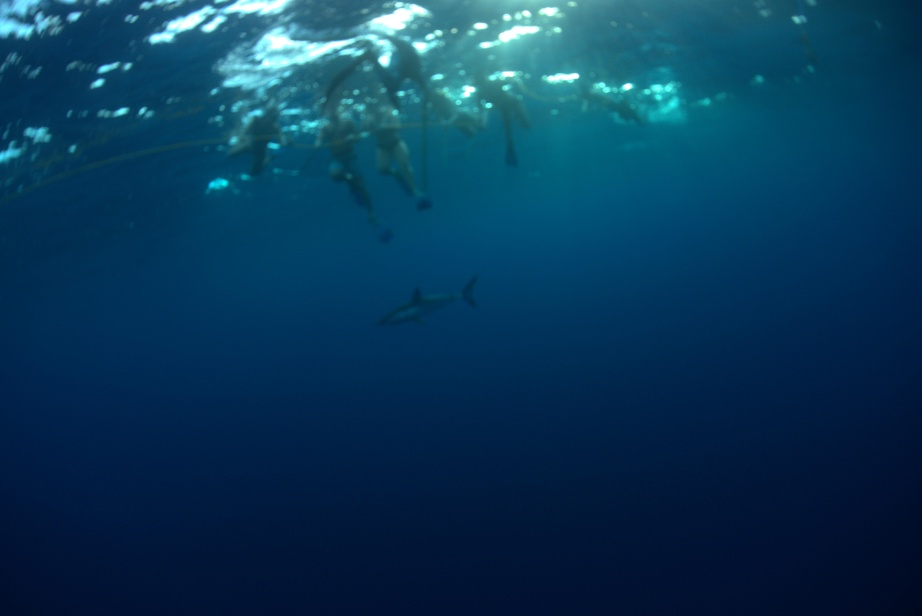Mako: (365, 270, 501, 342)
